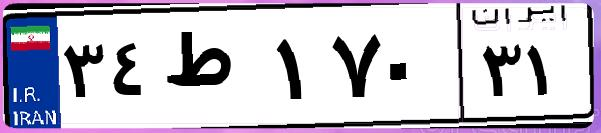0: (385, 28, 445, 110)
1: (270, 28, 330, 110), (525, 38, 570, 115)
3: (57, 26, 110, 100), (475, 38, 525, 113)
4: (110, 28, 158, 98)
7: (330, 28, 385, 110)
ط: (158, 20, 270, 120)
